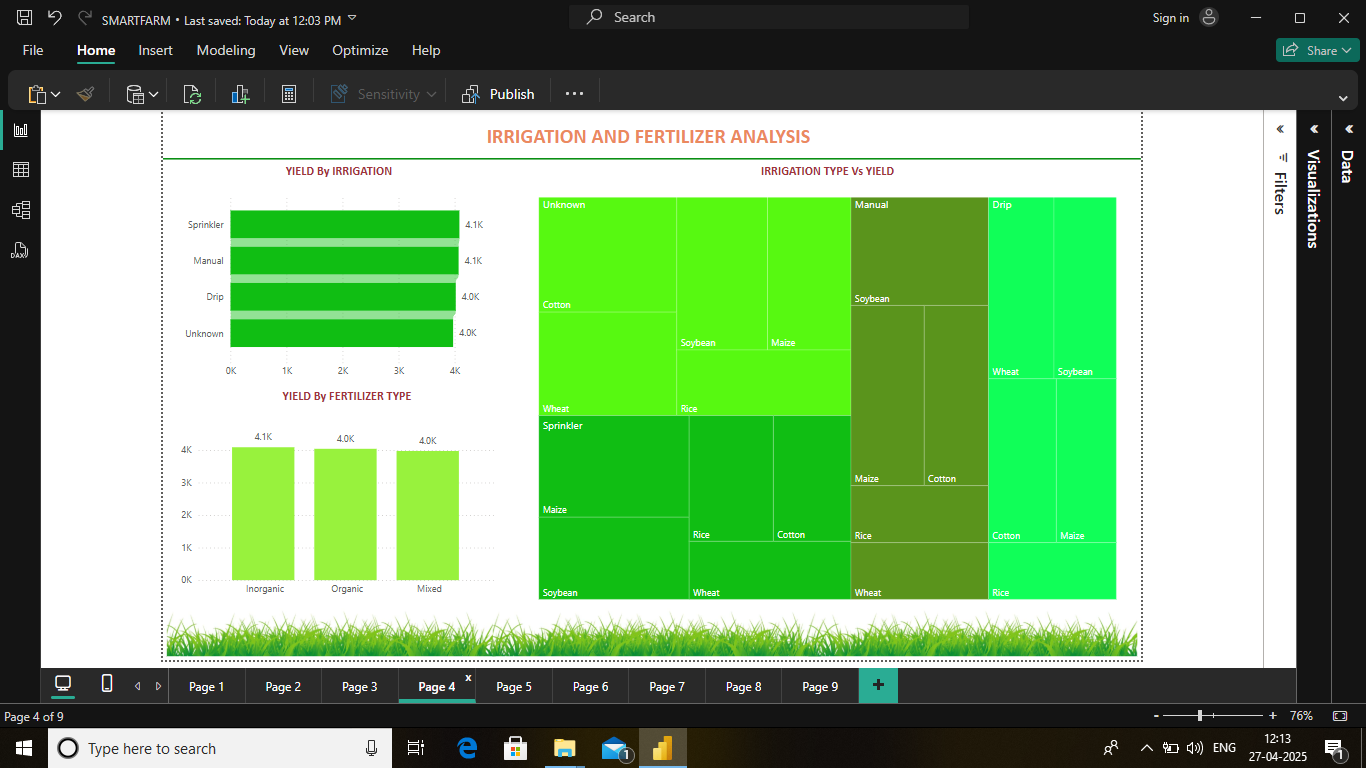

What the dashboard file says about the page in this screenshot:
{"tool":"powerbi","page":{"name":"Page 4","canvas":[1280,720],"ordinal":3},"visuals":[{"type":"textbox","box":[18.5,13.4,1234.6,52.1],"z":0},{"type":"barChart","fields":{"Category":["Smart_Farming_Crop_Yield_2024_CLEANED.irrigation_type"],"Y":["Smart_Farming_Crop_Yield_2024_CLEANED.Average Yield"]},"box":[18.5,99.1,421.6,260.4],"z":1000},{"type":"image","box":[0,644.4,440.1,75.6],"z":2000},{"type":"image","box":[426.7,644.4,440.1,75.6],"z":3000},{"type":"image","box":[839.9,644.4,440.1,75.6],"z":4000},{"type":"textbox","box":[16.8,65.5,423.3,38.6],"z":5000},{"type":"clusteredColumnChart","fields":{"Y":["Smart_Farming_Crop_Yield_2024_CLEANED.Average Yield"],"Category":["Smart_Farming_Crop_Yield_2024_CLEANED.fertilizer_type"]},"box":[18.5,401.5,421.6,243.6],"z":6000},{"type":"textbox","box":[26.9,359.5,423.3,42],"z":7000},{"type":"treemap","fields":{"Group":["Smart_Farming_Crop_Yield_2024_CLEANED.irrigation_type"],"Details":["Smart_Farming_Crop_Yield_2024_CLEANED.crop_type"],"Values":["Sum(Smart_Farming_Crop_Yield_2024_CLEANED.yield_kg_per_hectare)"]},"box":[487.1,104.1,766,540.9],"z":8000},{"type":"textbox","box":[487.1,65.5,766,48.7],"z":9000},{"type":"shape","box":[0,23.5,1280,80.6],"z":10000}]}

Visuals, with their boxes on the page's 1280x720 design canvas (x1, y1, x2, y2). These are canvas units, not pixel positions in the 1366x768 screenshot, which may show the page scaled, cropped or inside an application window:
textbox: region(18, 13, 1253, 66)
barChart - Smart_Farming_Crop_Yield_2024_CLEANED.irrigation_type x Smart_Farming_Crop_Yield_2024_CLEANED.Average Yield: region(18, 99, 440, 360)
image: region(0, 644, 440, 720)
image: region(427, 644, 867, 720)
image: region(840, 644, 1280, 720)
textbox: region(17, 66, 440, 104)
clusteredColumnChart - Smart_Farming_Crop_Yield_2024_CLEANED.Average Yield x Smart_Farming_Crop_Yield_2024_CLEANED.fertilizer_type: region(18, 402, 440, 645)
textbox: region(27, 360, 450, 402)
treemap - Smart_Farming_Crop_Yield_2024_CLEANED.irrigation_type x Smart_Farming_Crop_Yield_2024_CLEANED.crop_type: region(487, 104, 1253, 645)
textbox: region(487, 66, 1253, 114)
shape: region(0, 24, 1280, 104)
